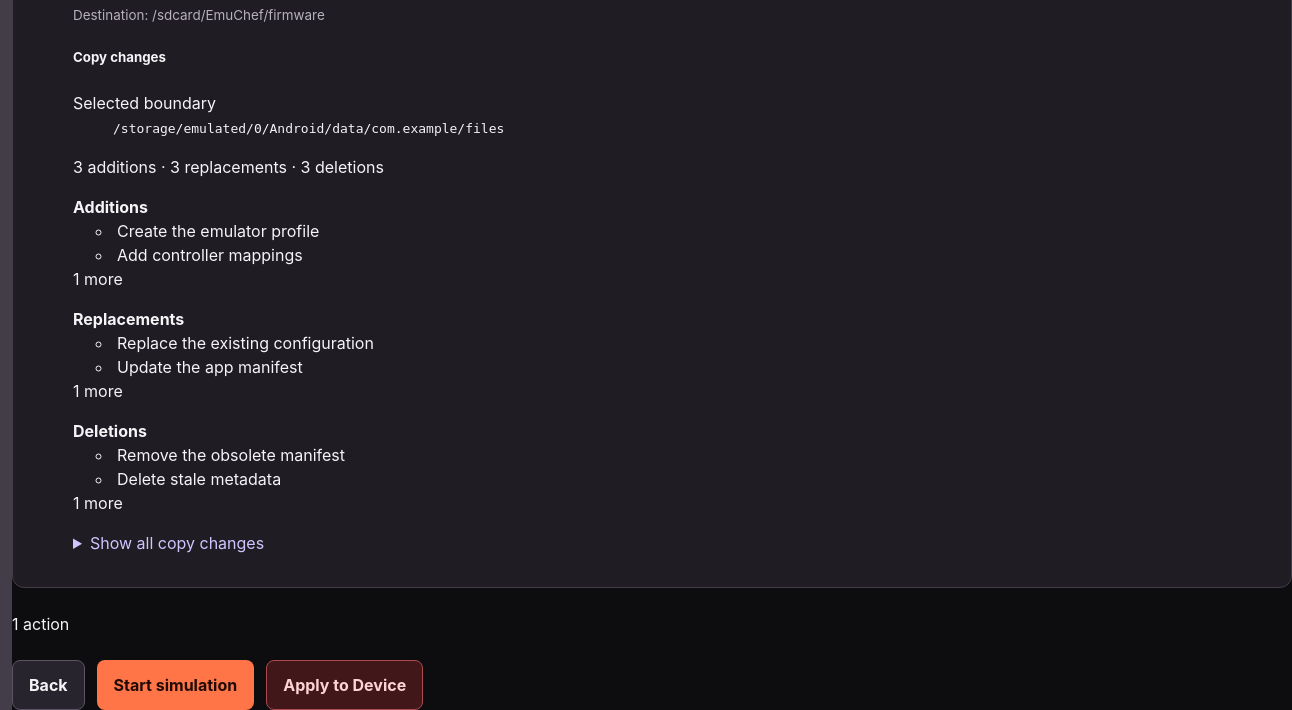
Test: review presentation › keeps the selected boundary and operation totals visible and expands the complete change list
(page scrolled)
Expected: the text "/storage/emulated/0/Android/data/com.example/files" is shown, x1=113 y1=121 x2=504 y2=136
Expected: the text "3 additions" is shown, x1=73 y1=157 x2=156 y2=177
Click the heading "Show all copy changes": {"x": 177, "y": 543} x1=90 y1=533 x2=264 y2=553
(page scrolled)
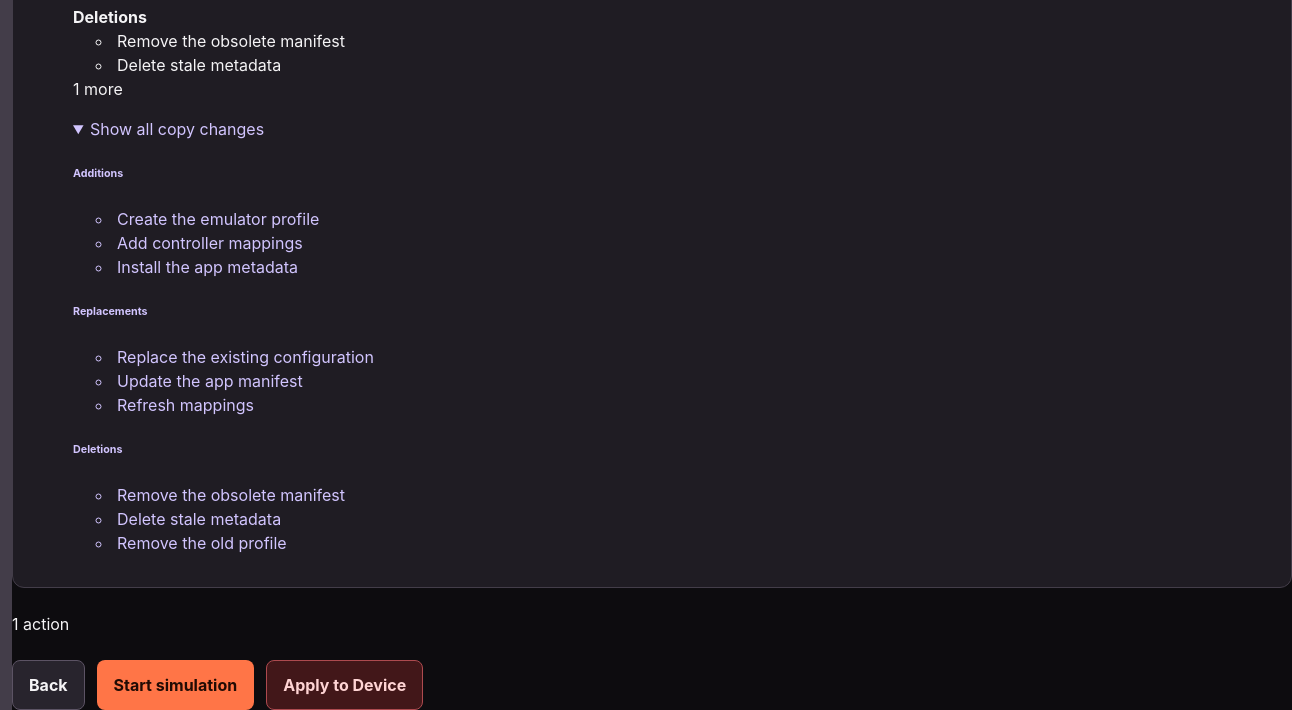
Expected: the heading "Additions" is shown, x1=73 y1=166 x2=123 y2=180
Expected: the list item "Install the app metadata" is shown, x1=117 y1=257 x2=298 y2=277
Expected: the heading "Replacements" is shown, x1=73 y1=304 x2=148 y2=318
